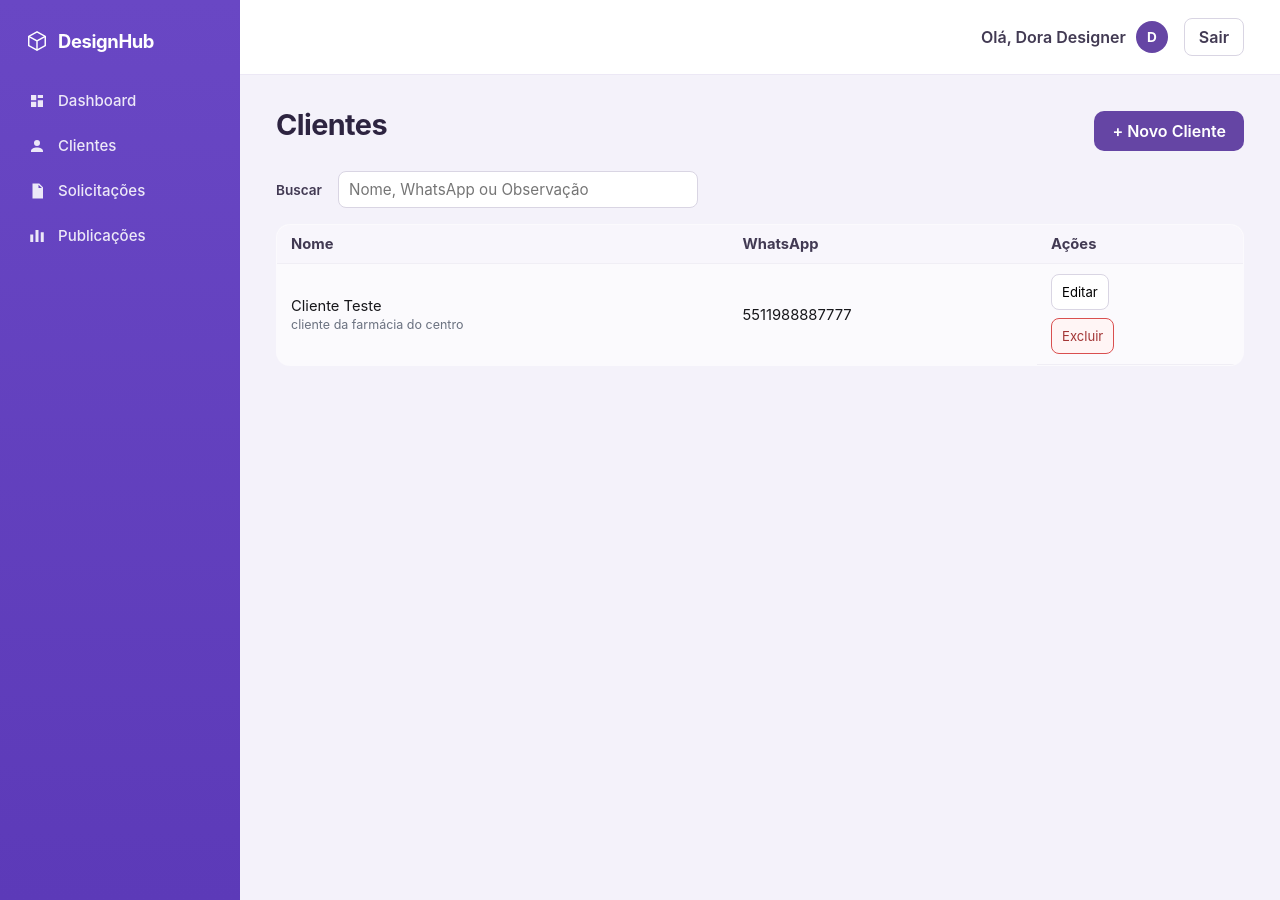
Test: ClientesPage (RF003 — CRUD completo) › exige confirmação antes de excluir e mostra erro do backend em caso de impedimento
Expected: the text "Cliente Teste" is shown, [291,297,382,315]
What coordinates should you click on to do the following:
click the button "Excluir"
I would click on:
 (1083, 336)
Its box is [1051,318,1114,354].
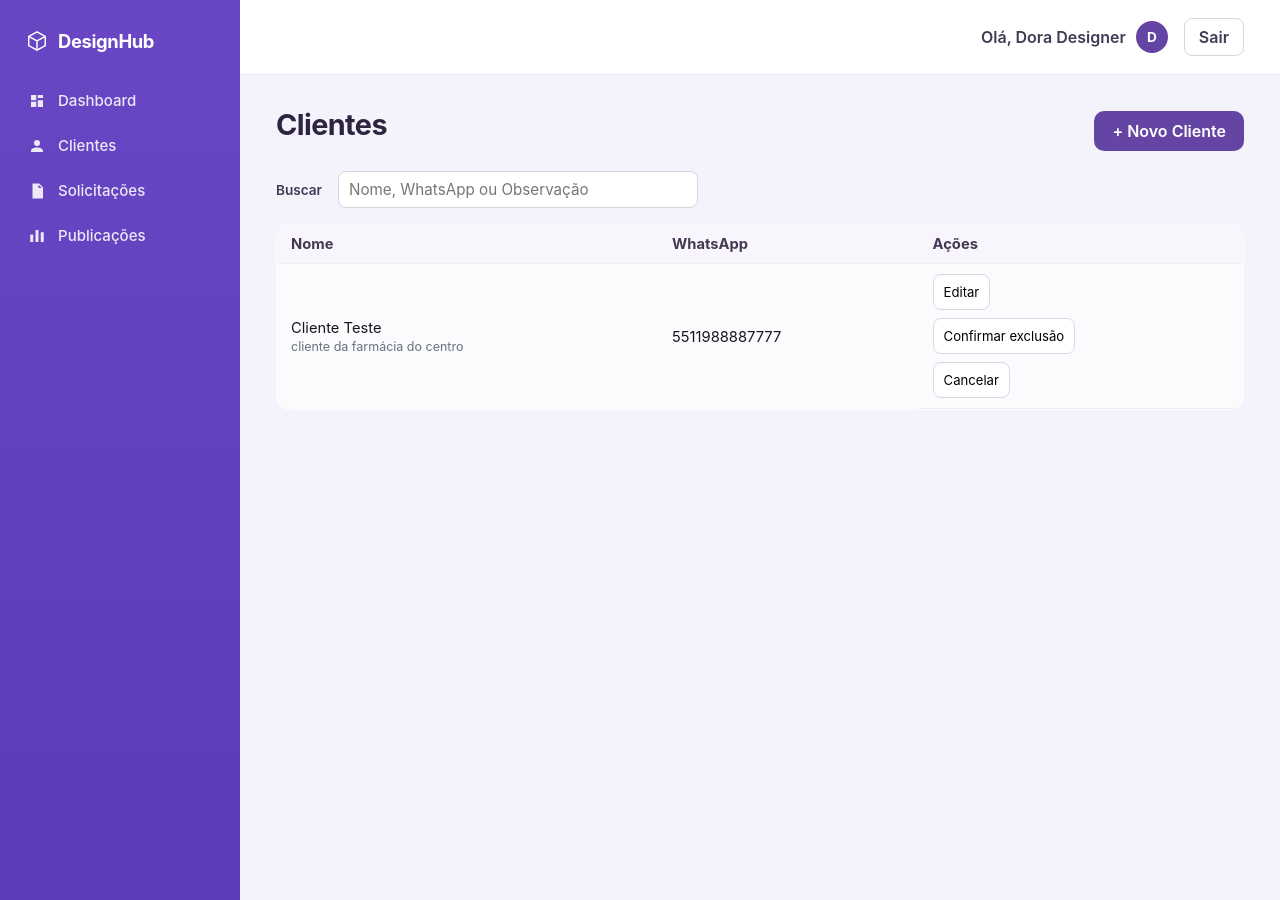
What coordinates should you click on to do the following:
click the button "Confirmar exclusão"
I would click on:
 (1004, 336)
Its box is [933,318,1075,354].
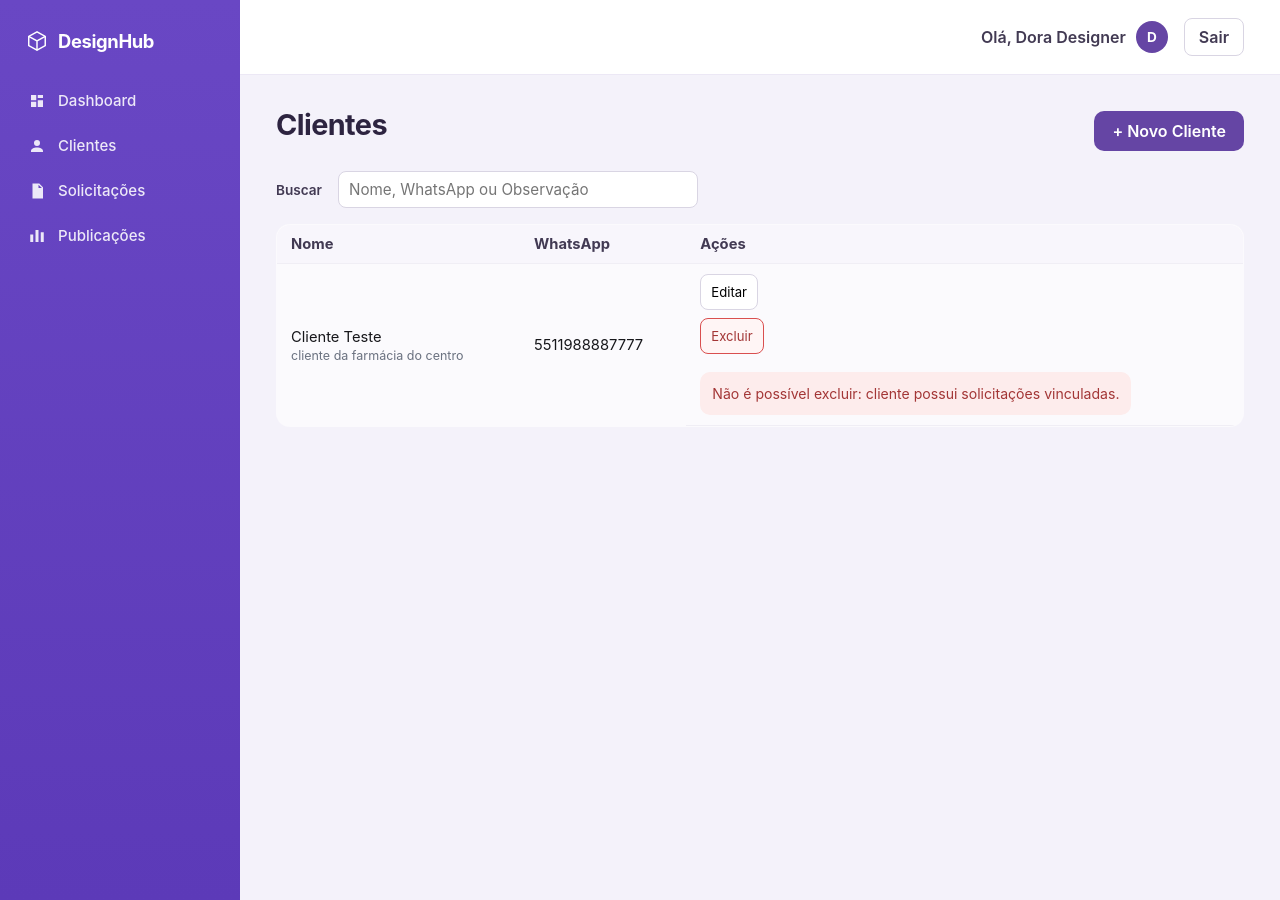
Expected: the text "Não é possível excluir: cliente possui solicitações vinculadas." is shown, [700,372,1132,415]
